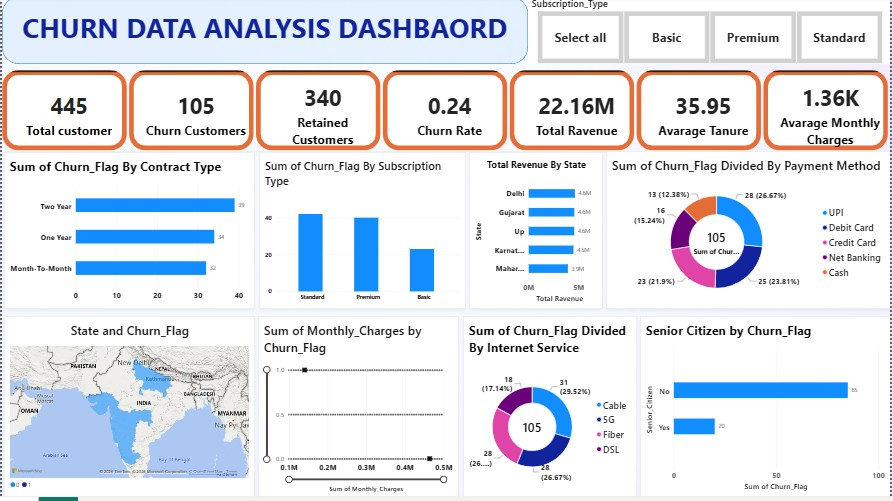

The dashboard page shown, as its layout file describes it:
{"tool":"powerbi","page":{"name":"Page 1","canvas":[1920,1080],"ordinal":0},"visuals":[{"type":"cardVisual","fields":{"Data":["Clean_Churn_Data.Total customer","Clean_Churn_Data.Churn Customers","Clean_Churn_Data.Retained Customers","Clean_Churn_Data.Churn Rate","Clean_Churn_Data.Total Ravenue","Clean_Churn_Data.Avarage Tanure","Clean_Churn_Data.Avarage Monthly Charges"]},"box":[0,157.7,1920.2,175],"z":0},{"type":"shape","box":[0,0,1136.2,144.7],"z":1000},{"type":"textbox","box":[0,25.9,1095.1,95],"z":2000},{"type":"slicer","fields":{"Values":["Clean_Churn_Data.Subscription_Type"]},"box":[1136.2,0,784.1,144.7],"z":3000},{"type":"clusteredBarChart","title":"Sum of Churn_Flag By Contract Type","fields":{"Category":["Clean_Churn_Data.Contract_Type"],"Y":["Sum(Clean_Churn_Data.Churn_Flag)"]},"box":[4.3,334.8,542.2,339.1],"z":4000},{"type":"clusteredBarChart","title":"Total Revenue By State","fields":{"Category":["Clean_Churn_Data.State"],"Y":["Clean_Churn_Data.Total Ravenue"]},"box":[1008.7,334.8,289.4,339.1],"z":5000},{"type":"clusteredColumnChart","title":"Sum of Churn_Flag By Subscription Type","fields":{"Category":["Clean_Churn_Data.Subscription_Type"],"Y":["Sum(Clean_Churn_Data.Churn_Flag)"]},"box":[555.1,334.8,447.1,339.1],"z":6000},{"type":"donutChart","title":"Sum of Churn_Flag Divided By Payment Method","fields":{"Category":["Clean_Churn_Data.Payment_Method"],"Y":["Sum(Clean_Churn_Data.Churn_Flag)"]},"box":[1304.6,332.6,615.6,341.3],"z":7000},{"type":"clusteredBarChart","title":"Senior Citizen by Churn_Flag","fields":{"Category":["Clean_Churn_Data.Senior_Citizen"],"Y":["Sum(Clean_Churn_Data.Churn_Flag)"]},"box":[1378.1,689,542.2,391],"z":8000},{"type":"donutChart","title":"Sum of Churn_Flag Divided By Internet Service","fields":{"Category":["Clean_Churn_Data.Internet_Service"],"Y":["Sum(Clean_Churn_Data.Churn_Flag)"]},"box":[995.8,689,375.8,391],"z":9000},{"type":"filledMap","fields":{"Category":["Clean_Churn_Data.State"],"Series":["Clean_Churn_Data.Churn_Flag"]},"box":[4.3,689,542.2,391],"z":10000},{"type":"scatterChart","fields":{"X":["Sum(Clean_Churn_Data.Monthly_Charges)"],"Y":["Clean_Churn_Data.Churn_Flag"]},"box":[553,689,434.2,391],"z":10001}]}

Visuals, with their boxes in screenshot pixels (x1, y1, x2, y2), scaled from the page's 1920x1080 canvas onto the 893x501 screenshot:
cardVisual - Clean_Churn_Data.Total customer x Clean_Churn_Data.Churn Customers: crop(0, 73, 892, 154)
shape: crop(0, 0, 528, 67)
textbox: crop(0, 12, 509, 56)
slicer - Clean_Churn_Data.Subscription_Type: crop(528, 0, 892, 67)
"Sum of Churn_Flag By Contract Type" clusteredBarChart: crop(2, 155, 254, 313)
"Total Revenue By State" clusteredBarChart: crop(469, 155, 604, 313)
"Sum of Churn_Flag By Subscription Type" clusteredColumnChart: crop(258, 155, 466, 313)
"Sum of Churn_Flag Divided By Payment Method" donutChart: crop(607, 154, 892, 313)
"Senior Citizen by Churn_Flag" clusteredBarChart: crop(641, 320, 892, 500)
"Sum of Churn_Flag Divided By Internet Service" donutChart: crop(463, 320, 638, 500)
filledMap - Clean_Churn_Data.State x Clean_Churn_Data.Churn_Flag: crop(2, 320, 254, 500)
scatterChart - Sum(Clean_Churn_Data.Monthly_Charges) x Clean_Churn_Data.Churn_Flag: crop(257, 320, 459, 500)
